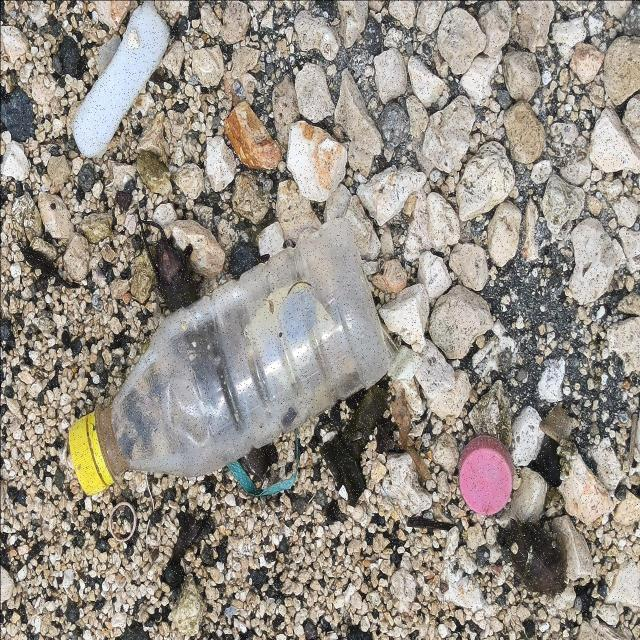plastic_waste: (69, 218, 391, 499), (461, 436, 515, 516)
styrofoam_waste: (73, 4, 171, 156)
